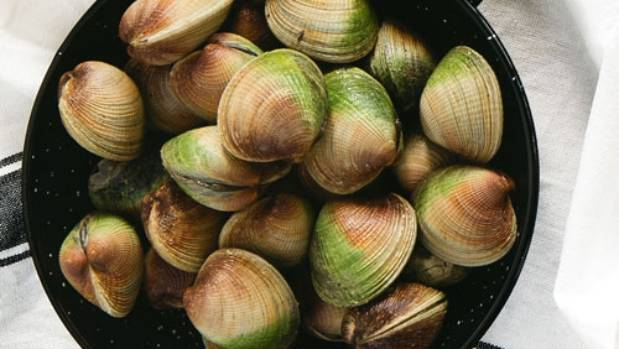cockle: (216, 48, 331, 166), (179, 245, 307, 348), (303, 68, 404, 195), (309, 193, 419, 308), (415, 41, 508, 165), (411, 164, 520, 268), (156, 119, 274, 214), (55, 58, 152, 164), (54, 208, 146, 319), (167, 28, 262, 122), (135, 176, 224, 275), (219, 190, 317, 274), (119, 48, 209, 139), (258, 1, 382, 64), (116, 1, 235, 66), (217, 192, 313, 269), (340, 281, 448, 349), (369, 16, 436, 121), (88, 148, 169, 211), (390, 132, 456, 195), (142, 243, 195, 319), (296, 275, 347, 344)
